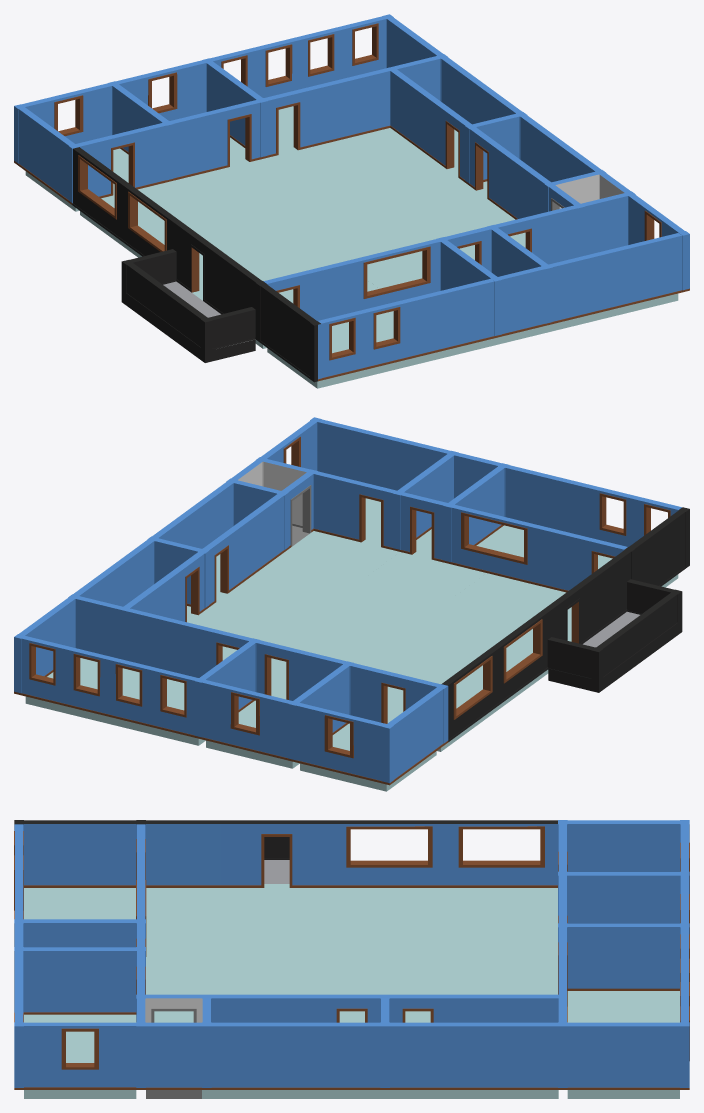
The model's file is Map.fbx.
3 renders of one model, top to bottom at view 1: azimuth 30°, elevation 25°; view 2: azimuth 150°, elevation 25°; view 3: azimuth 270°, elevation 25°, orthographic. The views are drawn at different scales.
Parts seen in each view (by area): view 1: Wall_Long_4x2.009, Wall_Long_4x2.012, Wall_Door_B_4x2.001, Wall_Door_A_4x2.001, Wall_Window_2_4x2.008, Floor_4x4.007, Floor_4x4.009, Floor_4x4.006, Floor_4x4.011, Floor_4x4.010, Floor_4x4.013, Wall_Door_C_4x2.001 (+53 smaller); view 2: Wall_Window_4x2.001, Wall_Window_4x2.002, Wall_Long_4x2.009, Wall_Long_4x2.006, Wall_Long_4x2.012, Wall_Window_2_4x2.001, Wall_Window_2_4x2.002, Floor_4x4.012, Floor_4x4.008, Floor_4x4.014, Wall_Window_2_4x2.007, Floor_4x4.007 (+54 smaller); view 3: Wall_Long_4x2.007, Wall_Long_4x2.010, Wall_Long_4x2.001, Wall_Long_4x2.003, Wall_Long_4x2.004, Wall_Long_4x2.013, Wall_Window_4x2.003, Wall_Door_C_4x2.002, Wall_Long_4x2.002, Wall_Long_4x2.008, Floor_4x4.014, Floor_4x4.013 (+58 smaller).
Boxes of the visible parts, left/top/right/bottom form: Wall_Long_4x2.009: left=592, top=233, right=682, bottom=313; Wall_Long_4x2.012: left=404, top=278, right=494, bottom=359; Wall_Door_B_4x2.001: left=264, top=77, right=354, bottom=157; Wall_Door_A_4x2.001: left=170, top=100, right=260, bottom=180; Wall_Window_2_4x2.008: left=318, top=300, right=407, bottom=380; Floor_4x4.007: left=354, top=164, right=489, bottom=221; Floor_4x4.009: left=217, top=149, right=353, bottom=206; Floor_4x4.006: left=304, top=128, right=439, bottom=185; Floor_4x4.011: left=267, top=185, right=403, bottom=243; Floor_4x4.010: left=138, top=170, right=266, bottom=225; Floor_4x4.013: left=187, top=207, right=316, bottom=262; Wall_Door_C_4x2.001: left=76, top=123, right=166, bottom=198; Wall_Window_4x2.001: left=202, top=680, right=291, bottom=760; Wall_Window_4x2.002: left=296, top=703, right=385, bottom=783; Wall_Long_4x2.009: left=317, top=419, right=407, bottom=490; Wall_Long_4x2.006: left=76, top=596, right=165, bottom=668; Wall_Long_4x2.012: left=505, top=465, right=595, bottom=537; Wall_Window_2_4x2.001: left=21, top=636, right=111, bottom=716; Wall_Window_2_4x2.002: left=108, top=657, right=197, bottom=737; Floor_4x4.012: left=317, top=576, right=453, bottom=633; Floor_4x4.008: left=231, top=555, right=366, bottom=612; Floor_4x4.014: left=404, top=597, right=532, bottom=653; Wall_Window_2_4x2.007: left=451, top=505, right=540, bottom=585; Floor_4x4.007: left=188, top=592, right=316, bottom=643; Wall_Long_4x2.007: left=211, top=1022, right=324, bottom=1089; Wall_Long_4x2.010: left=24, top=947, right=136, bottom=1014; Wall_Long_4x2.001: left=567, top=1022, right=679, bottom=1089; Wall_Long_4x2.003: left=567, top=923, right=679, bottom=990; Wall_Long_4x2.004: left=445, top=1022, right=557, bottom=1089; Wall_Long_4x2.013: left=24, top=820, right=136, bottom=887; Wall_Window_4x2.003: left=24, top=1022, right=136, bottom=1089; Wall_Door_C_4x2.002: left=220, top=820, right=333, bottom=887; Wall_Long_4x2.002: left=567, top=872, right=679, bottom=923; Wall_Long_4x2.008: left=567, top=820, right=679, bottom=871; Floor_4x4.014: left=220, top=915, right=333, bottom=963; Floor_4x4.013: left=333, top=915, right=445, bottom=963.
Size of the model in its own units: 19.7 by 24.04 by 3.
